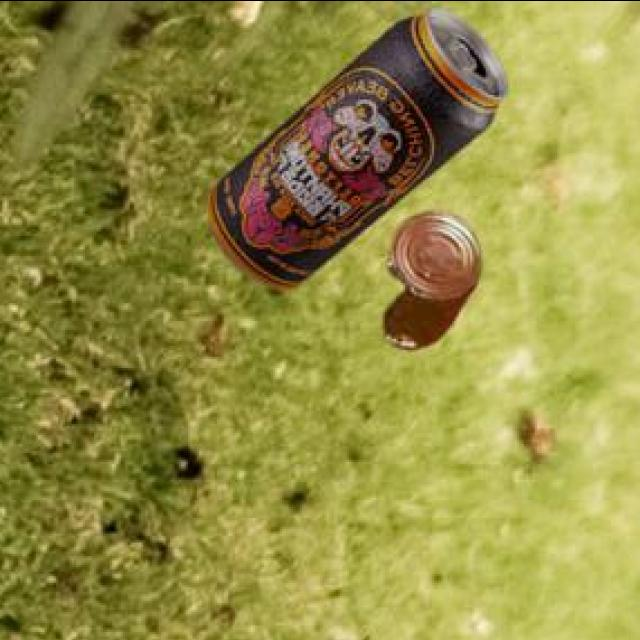logam: (211, 10, 511, 292), (388, 214, 484, 352)
